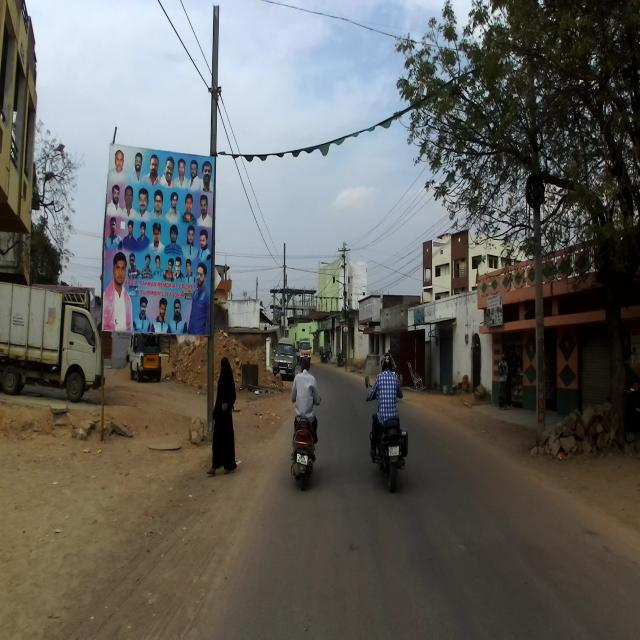car ahead at: (0, 273, 101, 411)
motorcycle ahead at: (356, 408, 413, 492), (292, 404, 322, 488)
person ahead at: (210, 354, 247, 486)
stones ahead at: (540, 401, 622, 466)
